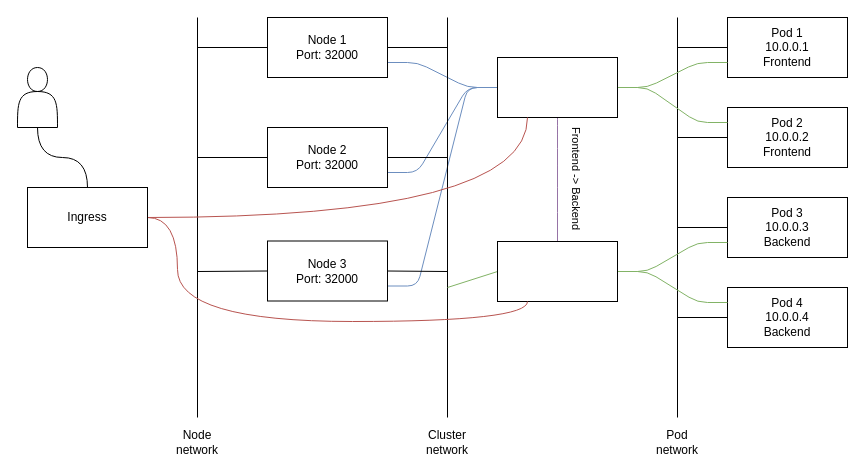
The diagram is 865 pixels wide and 475 high, and some of its shapes have lost their labels. The box of each missing label's shape, as (x1, y1, x2, y2) in pixels:
Services 10.1.0.1 Cluster IP: (496, 240, 618, 302)
Services 10.1.0.2 NodePort: (496, 56, 618, 118)
